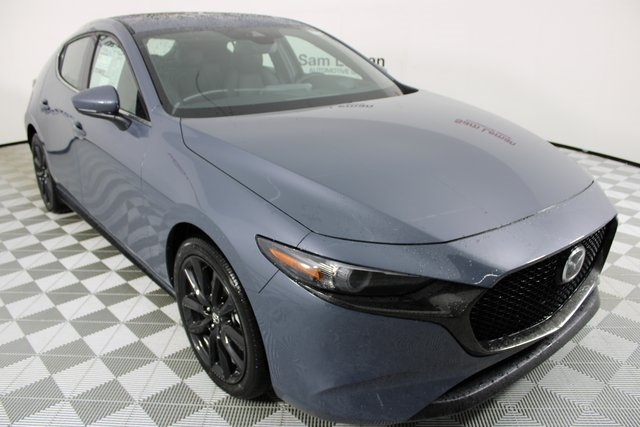Mazda3 Hatchback: (21, 8, 621, 427)
